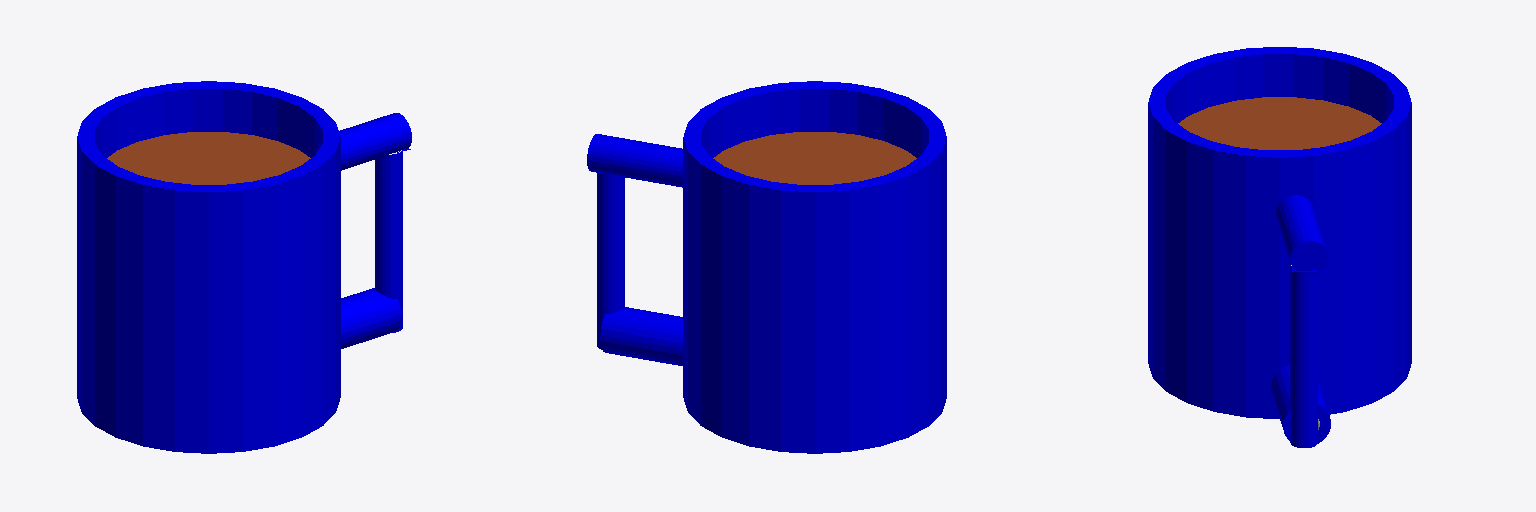
3 renders of one model, left to right at view 1: azimuth 30°, elevation 25°; view 2: azimuth 150°, elevation 25°; view 3: azimuth 270°, elevation 25°, orthographic.
Visible parts, largest first — view 1: SketchUp_ID4.022, SketchUp.002_ID18.021, SketchUp.012_ID80.001, SketchUp.011_ID74.012, SketchUp.006_ID44.008, SketchUp.008_ID56.003; view 2: SketchUp_ID4.022, SketchUp.002_ID18.021, SketchUp.012_ID80.001, SketchUp.011_ID74.012, SketchUp.008_ID56.003, SketchUp.006_ID44.008; view 3: SketchUp_ID4.022, SketchUp.002_ID18.021, SketchUp.012_ID80.001, SketchUp.011_ID74.012, SketchUp.006_ID44.008, SketchUp.008_ID56.003.
Boxes of the visible parts, box(x1,y1,x2,y2) form: SketchUp_ID4.022: box(77, 81, 340, 453); SketchUp.002_ID18.021: box(95, 89, 322, 157); SketchUp.012_ID80.001: box(107, 132, 310, 184); SketchUp.011_ID74.012: box(375, 152, 402, 332); SketchUp.006_ID44.008: box(339, 113, 411, 170); SketchUp.008_ID56.003: box(341, 288, 401, 348); SketchUp_ID4.022: box(683, 81, 946, 453); SketchUp.002_ID18.021: box(701, 89, 928, 157); SketchUp.012_ID80.001: box(713, 132, 916, 184); SketchUp.011_ID74.012: box(597, 173, 624, 349); SketchUp.008_ID56.003: box(600, 307, 682, 365); SketchUp.006_ID44.008: box(587, 134, 682, 187); SketchUp_ID4.022: box(1148, 47, 1411, 418); SketchUp.002_ID18.021: box(1166, 54, 1393, 123); SketchUp.012_ID80.001: box(1178, 97, 1381, 149); SketchUp.011_ID74.012: box(1290, 264, 1317, 447); SketchUp.006_ID44.008: box(1276, 195, 1327, 274); SketchUp.008_ID56.003: box(1271, 365, 1330, 443).
Bounding box in the file's own units: 0.1236 × 0.0958 × 0.0874.